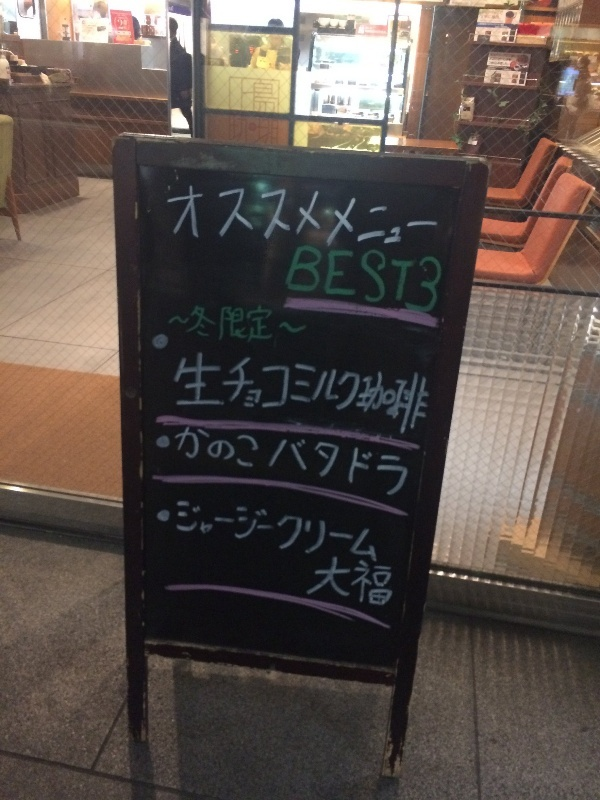text: (177, 348, 192, 438), (193, 348, 208, 438), (209, 348, 224, 438), (225, 348, 240, 438), (241, 348, 256, 438), (257, 348, 272, 438), (273, 348, 288, 438), (289, 348, 304, 438), (305, 348, 320, 438), (321, 348, 336, 438), (337, 348, 352, 438), (353, 348, 368, 438), (369, 348, 384, 438), (385, 348, 400, 438), (401, 348, 416, 438), (417, 348, 432, 438), (177, 425, 192, 504), (193, 425, 208, 504), (209, 425, 224, 504), (225, 425, 240, 504), (241, 425, 256, 504), (257, 425, 272, 504), (273, 425, 288, 504), (289, 425, 304, 504), (305, 425, 320, 504), (321, 425, 336, 504), (337, 425, 352, 504), (353, 425, 368, 504), (369, 425, 384, 504), (385, 425, 400, 504), (305, 238, 320, 316), (321, 238, 336, 316), (337, 238, 352, 316), (353, 238, 368, 316), (369, 238, 384, 316), (385, 238, 400, 316), (401, 238, 416, 316), (417, 238, 432, 316), (177, 177, 192, 249), (193, 177, 208, 249), (209, 177, 224, 249), (225, 177, 240, 249), (241, 177, 256, 249), (257, 177, 272, 249), (273, 177, 288, 249), (289, 177, 304, 249), (305, 177, 320, 249), (321, 177, 336, 249), (337, 177, 352, 249), (353, 177, 368, 249), (369, 177, 384, 249), (385, 177, 400, 249), (401, 177, 416, 249), (417, 177, 432, 249), (177, 498, 192, 563), (193, 498, 208, 563), (209, 498, 224, 563), (225, 498, 240, 563), (241, 498, 256, 563), (257, 498, 272, 563), (273, 498, 288, 563), (289, 498, 304, 563), (305, 498, 320, 563), (321, 498, 336, 563), (337, 498, 352, 563), (353, 498, 368, 563), (293, 238, 304, 316), (177, 290, 192, 347), (193, 290, 208, 347), (209, 290, 224, 347), (225, 290, 240, 347), (241, 290, 256, 347), (257, 290, 272, 347), (273, 290, 288, 347), (289, 290, 304, 347), (321, 556, 336, 609), (337, 556, 352, 609), (353, 556, 368, 609), (369, 556, 384, 609), (433, 238, 443, 316), (401, 425, 410, 504), (167, 177, 176, 249), (369, 498, 377, 563), (241, 79, 256, 113), (257, 79, 272, 113), (241, 115, 256, 145), (257, 115, 272, 145), (385, 556, 393, 609), (433, 177, 438, 249), (231, 79, 240, 113), (171, 290, 176, 347), (231, 115, 240, 145), (316, 556, 320, 609), (273, 79, 279, 113), (305, 290, 308, 347), (273, 115, 277, 145), (118, 20, 128, 30)
